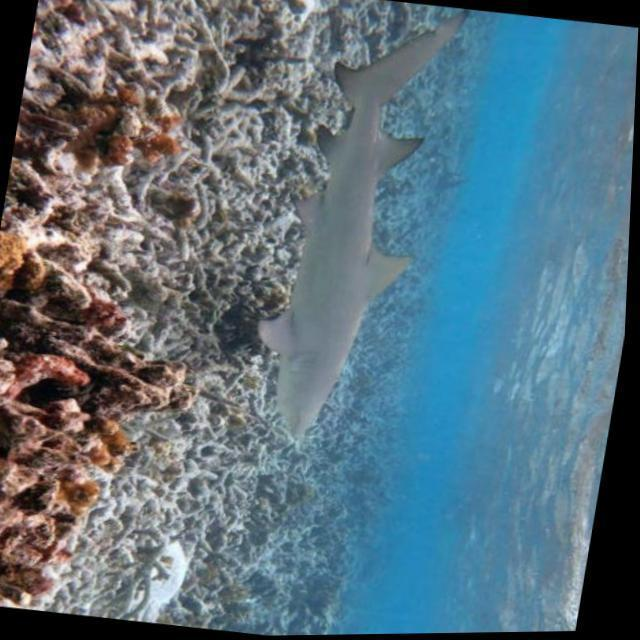Dead Coral: (0, 5, 293, 633)
